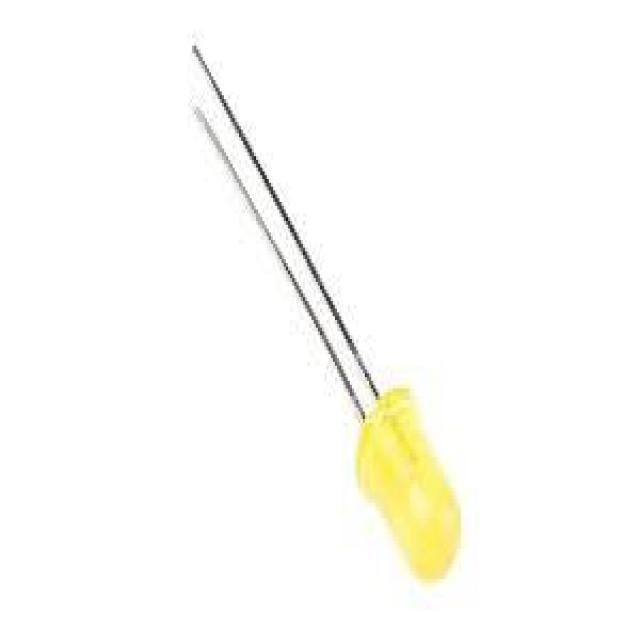Led: (193, 47, 460, 577)
